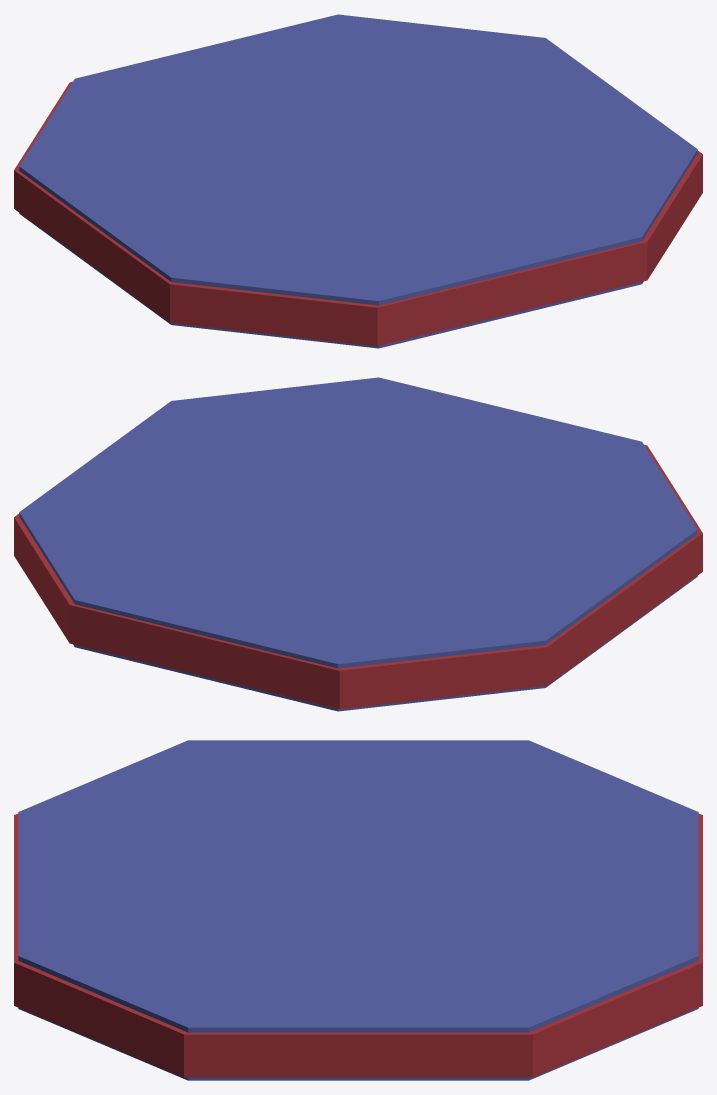
Rendered from SM_TilingFloor6.fbx.
The picture shows the model from 3 angles, top to bottom: view 1: azimuth 30°, elevation 25°; view 2: azimuth 150°, elevation 25°; view 3: azimuth 270°, elevation 25°; orthographic projection. The views are drawn at different scales.
Visible parts, largest first — view 1: SM_TilingFloor6; view 2: SM_TilingFloor6; view 3: SM_TilingFloor6.
Boxes of the visible parts, left/top/right/bottom form: SM_TilingFloor6: left=14, top=14, right=702, bottom=348; SM_TilingFloor6: left=14, top=377, right=702, bottom=711; SM_TilingFloor6: left=14, top=740, right=702, bottom=1080.
Bounding box in the file's own units: 800 × 67.89 × 800.
